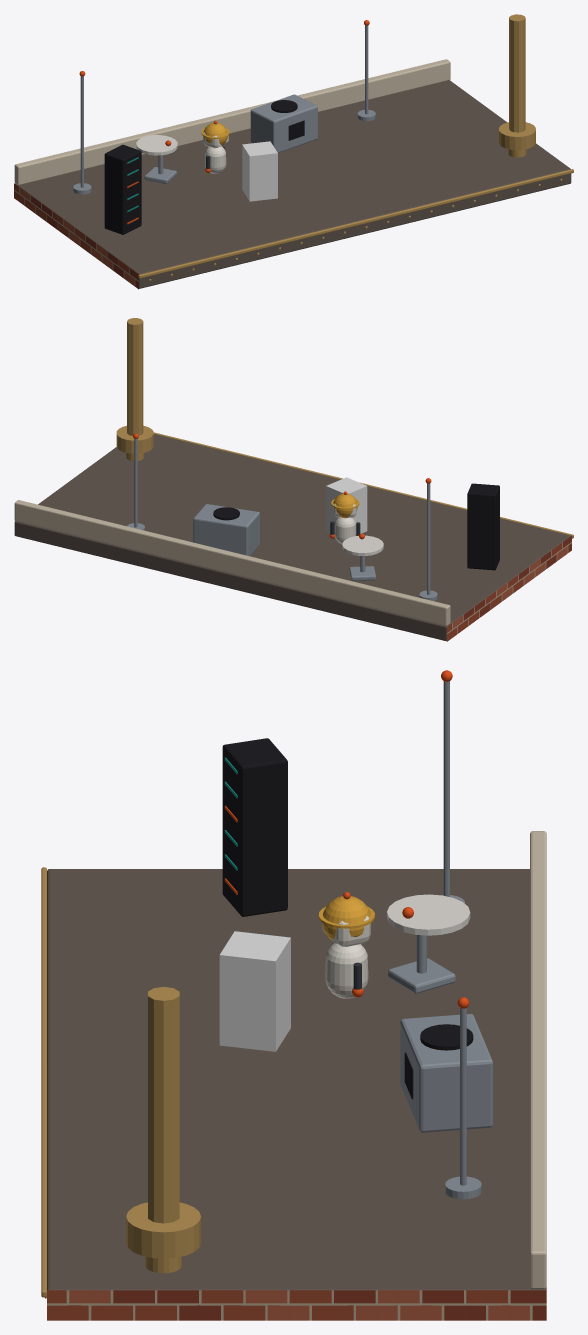
The model's file is roof.glb.
3 views of the same model, one above another, from view 1: azimuth 30°, elevation 25°; view 2: azimuth 150°, elevation 25°; view 3: azimuth 270°, elevation 25° (orthographic). The views are drawn at different scales.
Visible parts, largest first — view 1: static, hit__lever, dyn__engineer__head, dyn__engineer__body; view 2: static, hit__lever, dyn__engineer__head, dyn__engineer__body; view 3: static, hit__lever, dyn__engineer__head, dyn__engineer__body.
Part boxes in pixels (bbox=[...]): static: bbox=[14, 14, 573, 289]; hit__lever: bbox=[242, 141, 277, 201]; dyn__engineer__head: bbox=[201, 120, 229, 148]; dyn__engineer__body: bbox=[204, 146, 226, 174]; static: bbox=[14, 318, 573, 641]; hit__lever: bbox=[326, 477, 367, 534]; dyn__engineer__head: bbox=[331, 491, 359, 518]; dyn__engineer__body: bbox=[334, 517, 355, 543]; static: bbox=[41, 681, 546, 1320]; hit__lever: bbox=[219, 931, 290, 1051]; dyn__engineer__head: bbox=[318, 892, 374, 946]; dyn__engineer__body: bbox=[325, 943, 368, 998].
Bounding box in the file's own units: 12.06 × 4 × 6.07.
